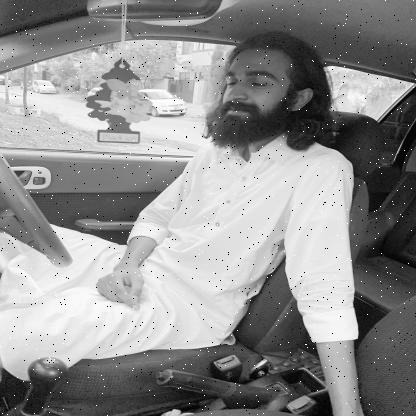no_seatbelt: (183, 34, 320, 258)
